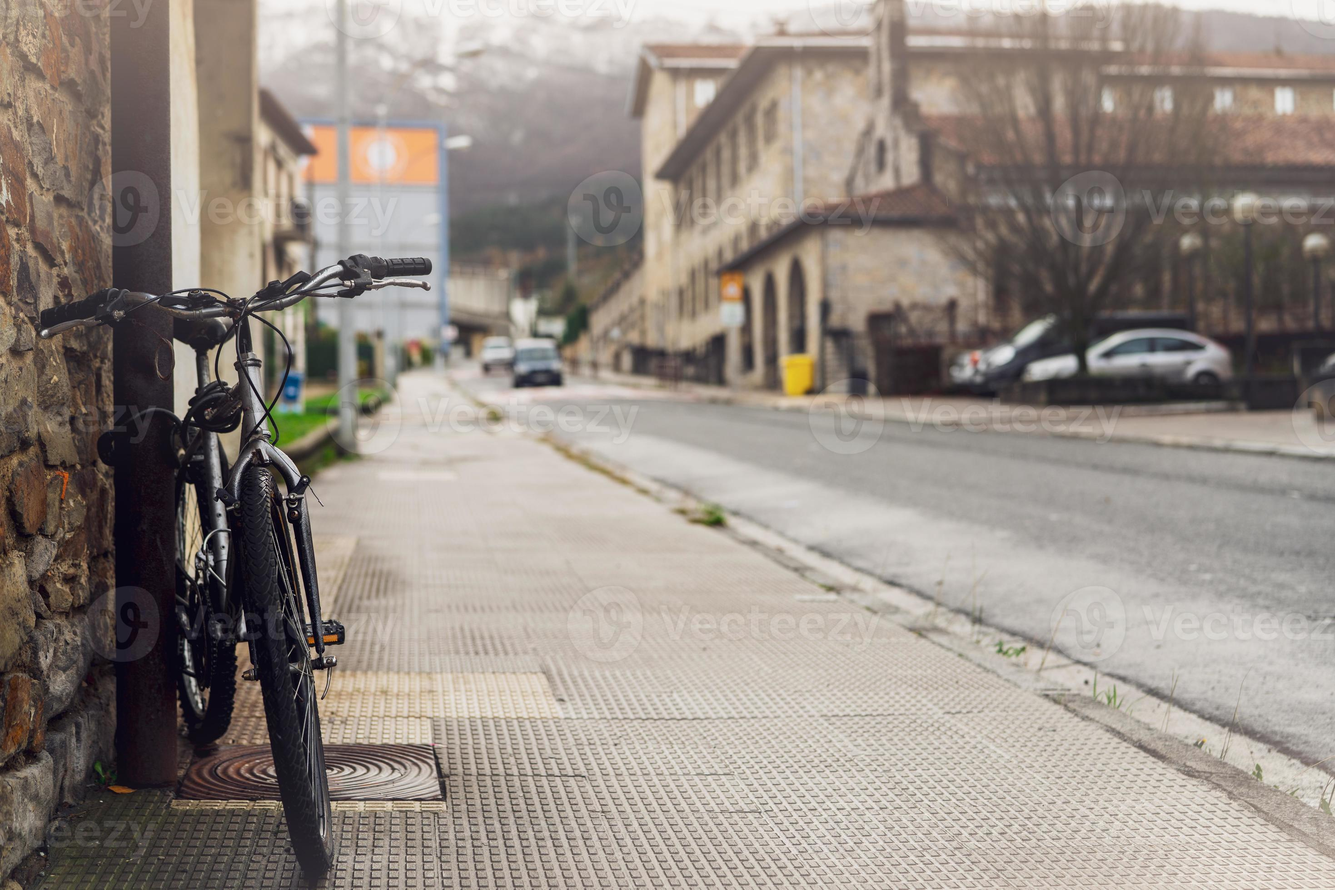Bicycle: (11, 237, 479, 876)
Car: (957, 305, 1244, 396), (502, 319, 571, 399)
